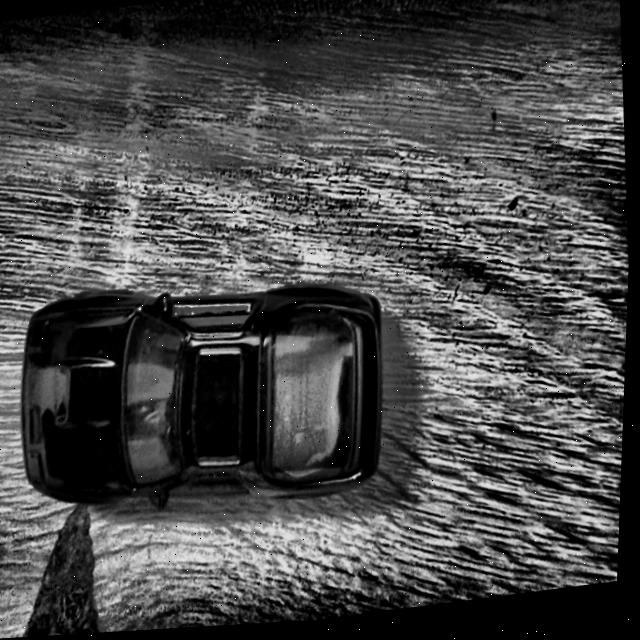car: (11, 255, 399, 534)
